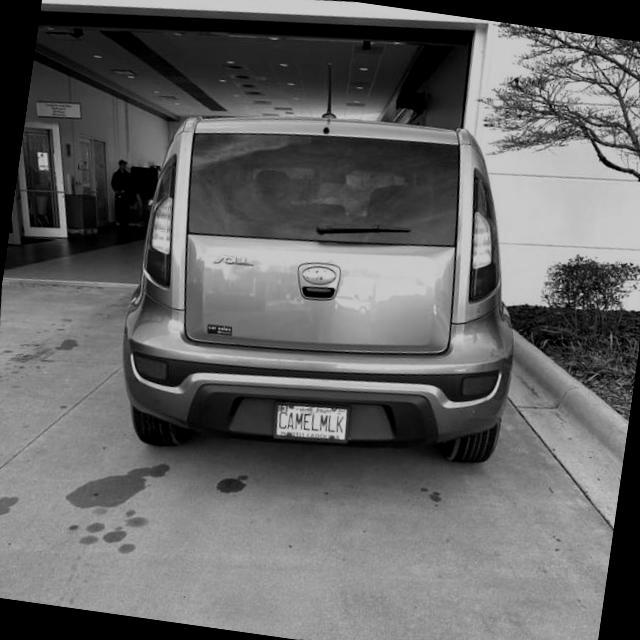LicensePlate: (269, 399, 351, 444)
